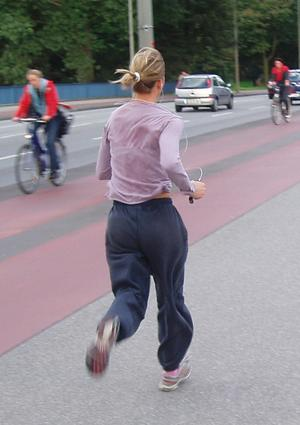person: (86, 48, 207, 395)
